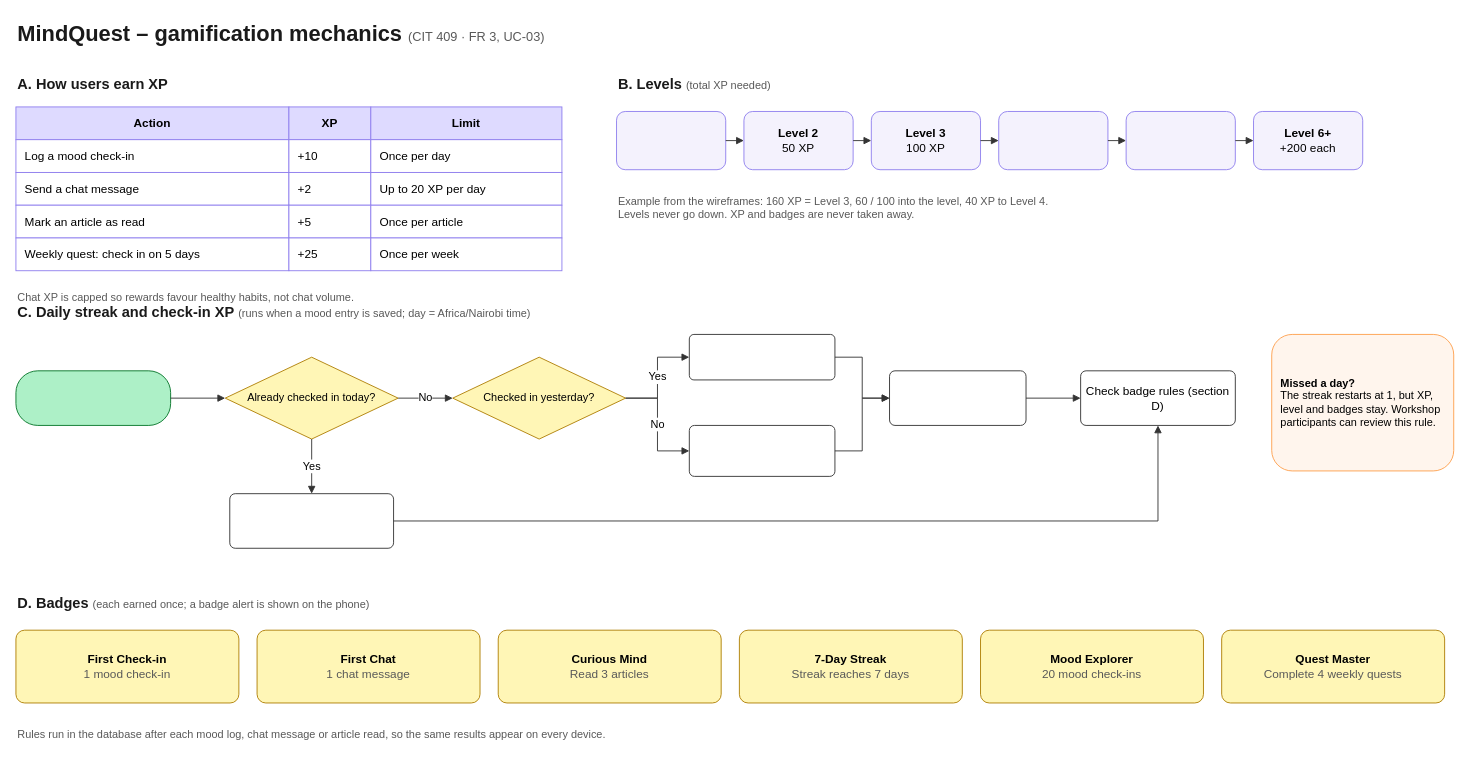
Image size: 1470x763. Some labels were removed from this diagram. Each missing label, with the centre of its shape:
Add 10 XP, update level: (957,397)
Level 1 0 XP: (671,140)
Level 4 200 XP: (1053,140)
Level 5 350 XP: (1180,140)
Mood check-in saved: (93,397)
No streak change and no extra XP: (311,520)
Streak + 1: (761,357)
Streak = 1 (start again): (761,450)
